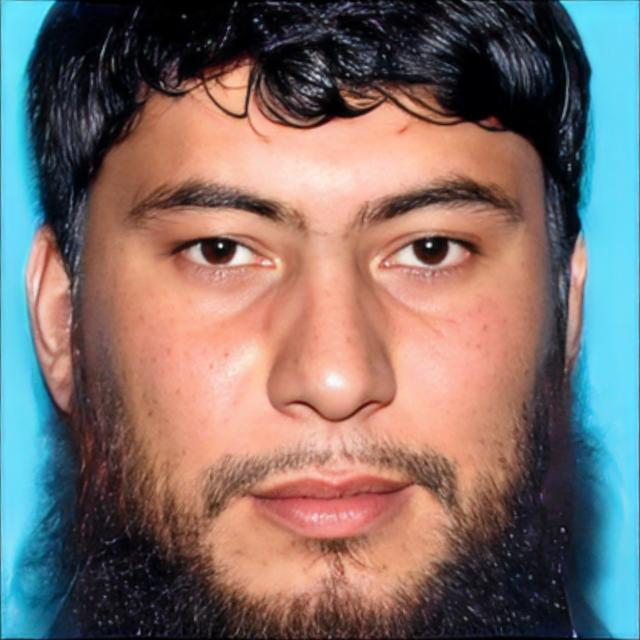neutral: (75, 33, 548, 640)
